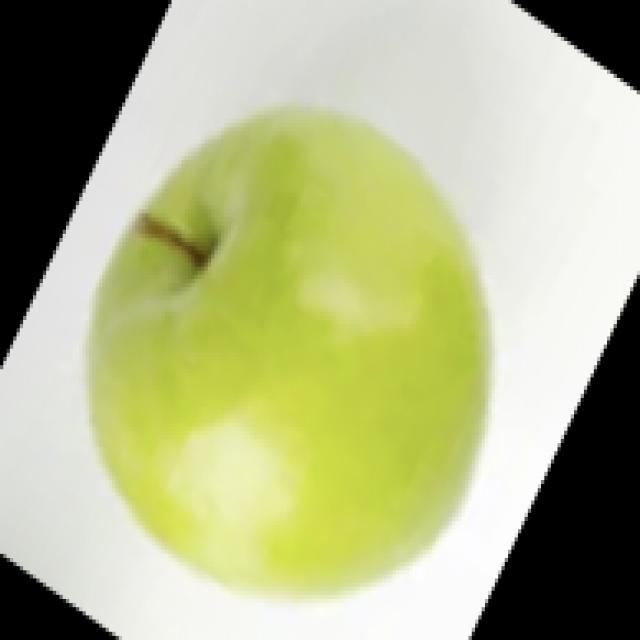Fresh Apple: (81, 103, 495, 596)
